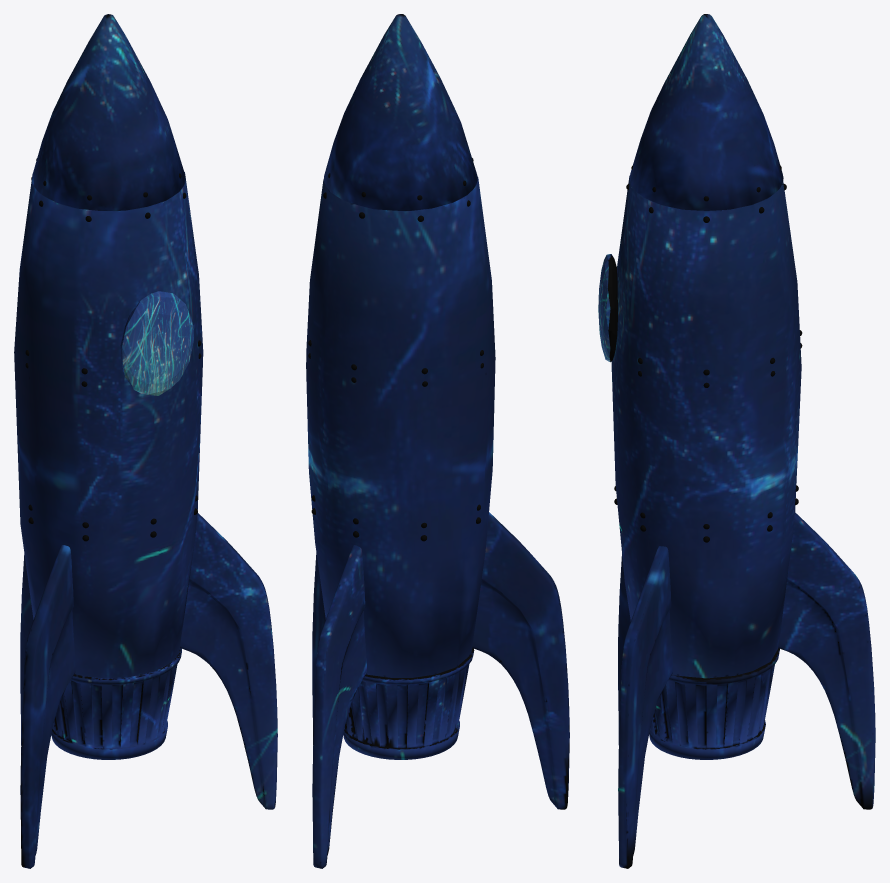
Rendered from Hot.mtl.obj.
The picture shows the model from 3 angles, left to right: view 1: azimuth 30°, elevation 25°; view 2: azimuth 150°, elevation 25°; view 3: azimuth 270°, elevation 25°; orthographic projection.
Visible parts, largest first — view 1: Cylinder.1, Cube_0.1, Cylinder, Cylinder.2, Sphere; view 2: Cylinder.1, Cube_0.1, Cylinder, Cylinder.2, Sphere_0.1; view 3: Cylinder.1, Cube_0.1, Cylinder, Cylinder.2, Sphere, Sphere_0.1.
Boxes of the visible parts, box(x1,y1,x2,y2) form: Cylinder.1: box(14, 172, 203, 678); Cube_0.1: box(20, 513, 277, 868); Cylinder: box(32, 14, 185, 210); Cylinder.2: box(51, 648, 181, 759); Sphere: box(120, 291, 193, 395); Cylinder.1: box(306, 177, 495, 677); Cube_0.1: box(312, 512, 569, 868); Cylinder: box(324, 14, 477, 210); Cylinder.2: box(343, 648, 474, 759); Sphere_0.1: box(308, 192, 483, 541); Cylinder.1: box(611, 175, 801, 678); Cube_0.1: box(618, 512, 875, 868); Cylinder: box(629, 14, 783, 210); Cylinder.2: box(649, 648, 779, 759); Sphere: box(598, 254, 617, 362); Sphere_0.1: box(614, 183, 802, 542).
Size of the model in its own units: 86.73 by 256 by 81.16.
2 materials, 2 textured.
